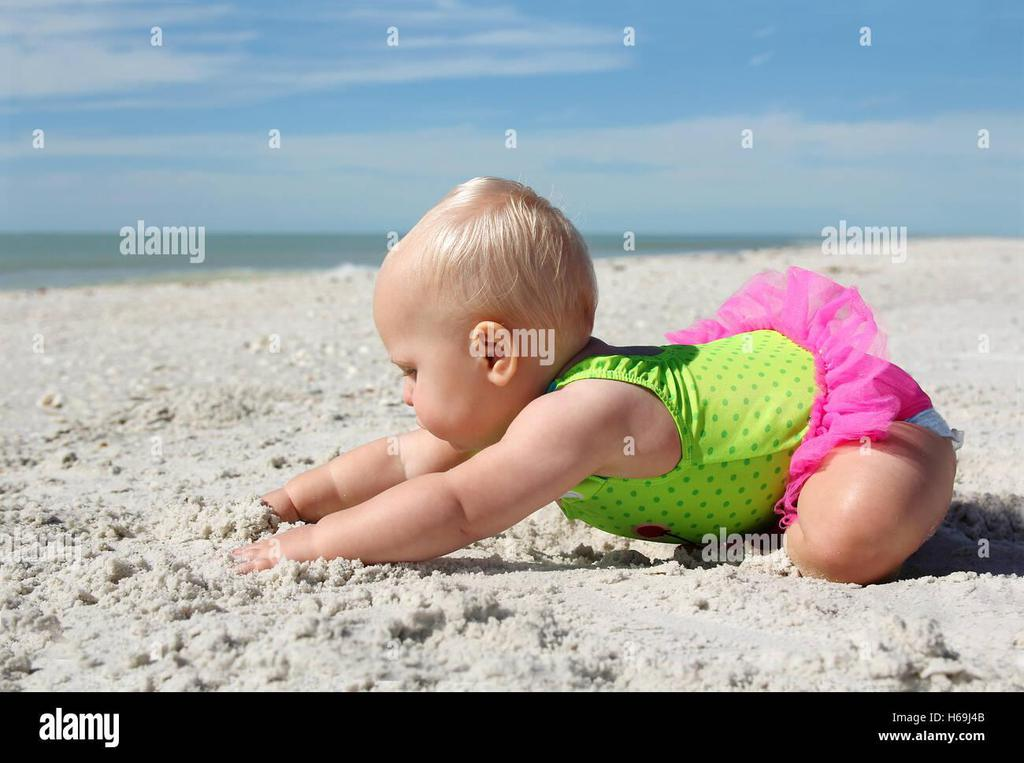child: (216, 169, 994, 602)
